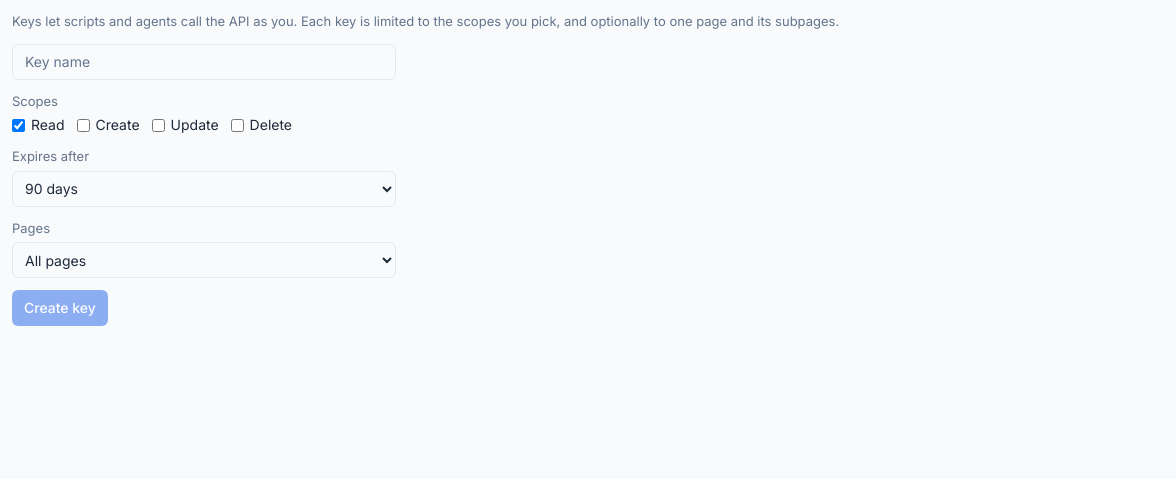
ApiKeysSection › explains the live-key cap on 409
Type "x" into the field with test id "api-key-name" at point(204, 62), box [12,44,396,80]
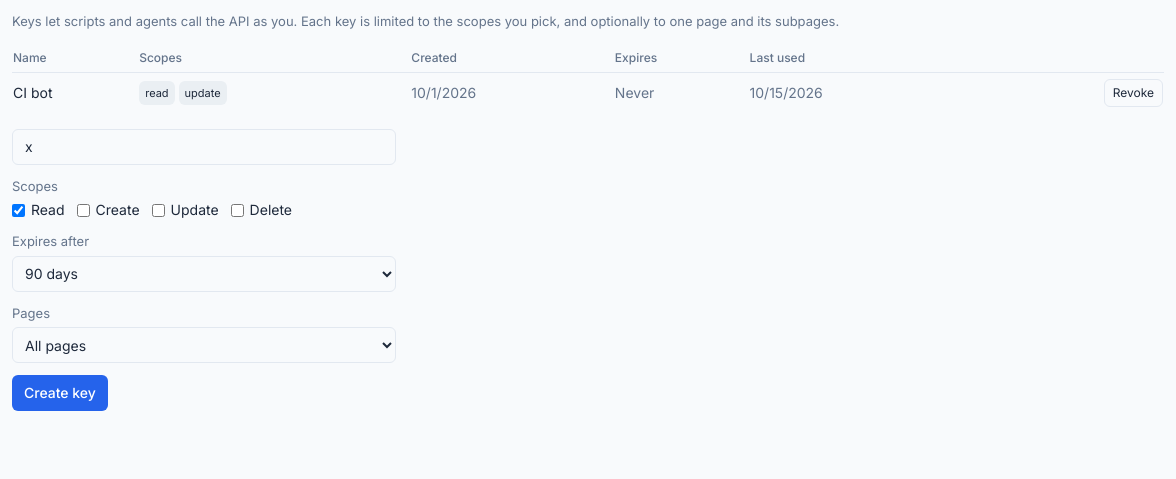
Click the button with test id "api-key-submit" at point(60, 393), box [12,375,108,411]
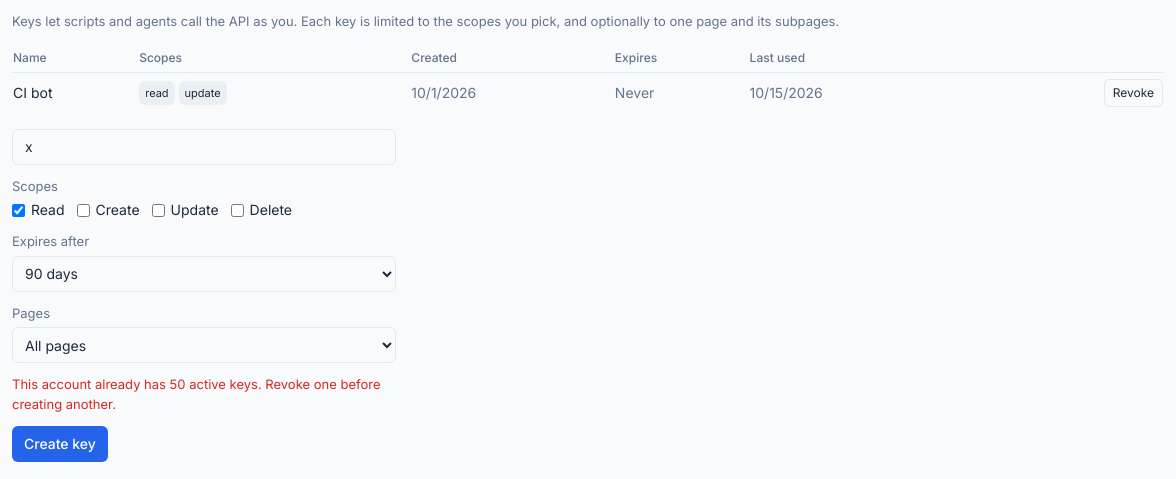
Now the message with test id "api-key-error" shows "50 active keys", box [12,376,380,412]
